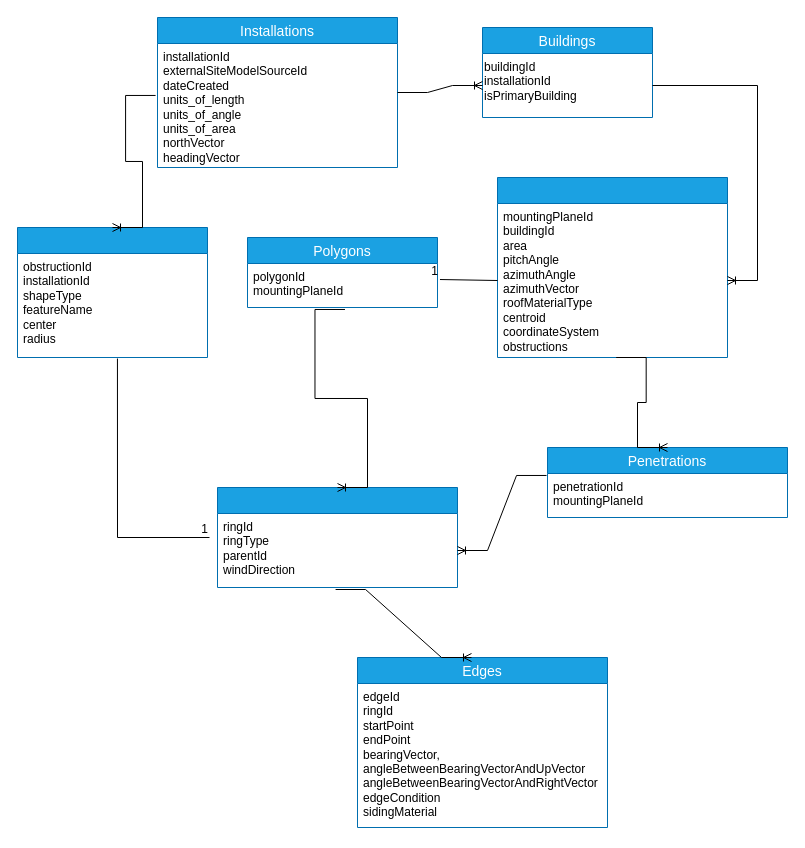
Image size: 805x848. Some labels were removed from this diagram. Each missing label, with the box of its shape:
MountingPlanes: (496, 176, 728, 358)
Obstructions: (16, 226, 208, 358)
Rings: (216, 486, 458, 588)
